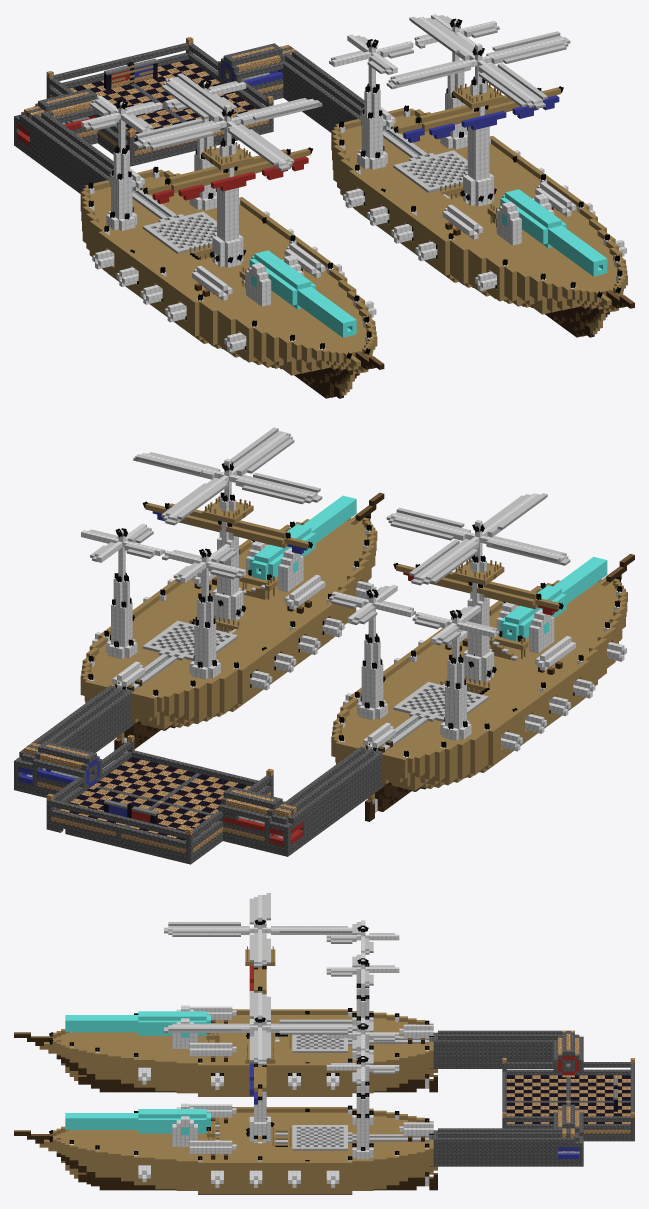
Rendered from minecraft.obj.
3 views of the same model, one above another, from view 1: azimuth 30°, elevation 25°; view 2: azimuth 150°, elevation 25°; view 3: azimuth 270°, elevation 25° (orthographic). The views are drawn at different scales.
Bounding box in the file's own units: 93 × 45 × 145.
